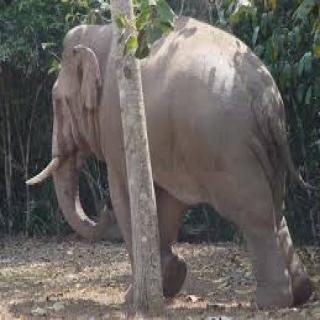Elephant: (32, 11, 320, 316)
